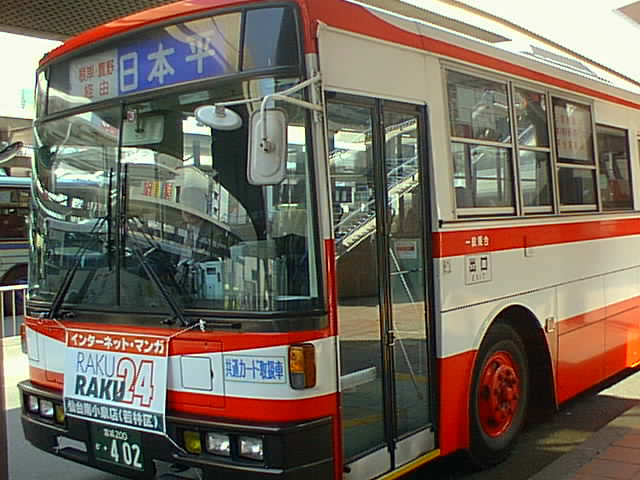destination: (67, 9, 245, 108)
